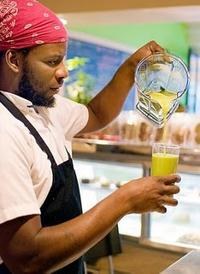person: (1, 3, 182, 274)
